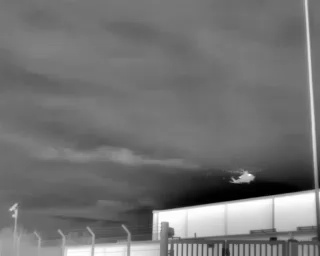HELICOPTER: (222, 163, 270, 188)
